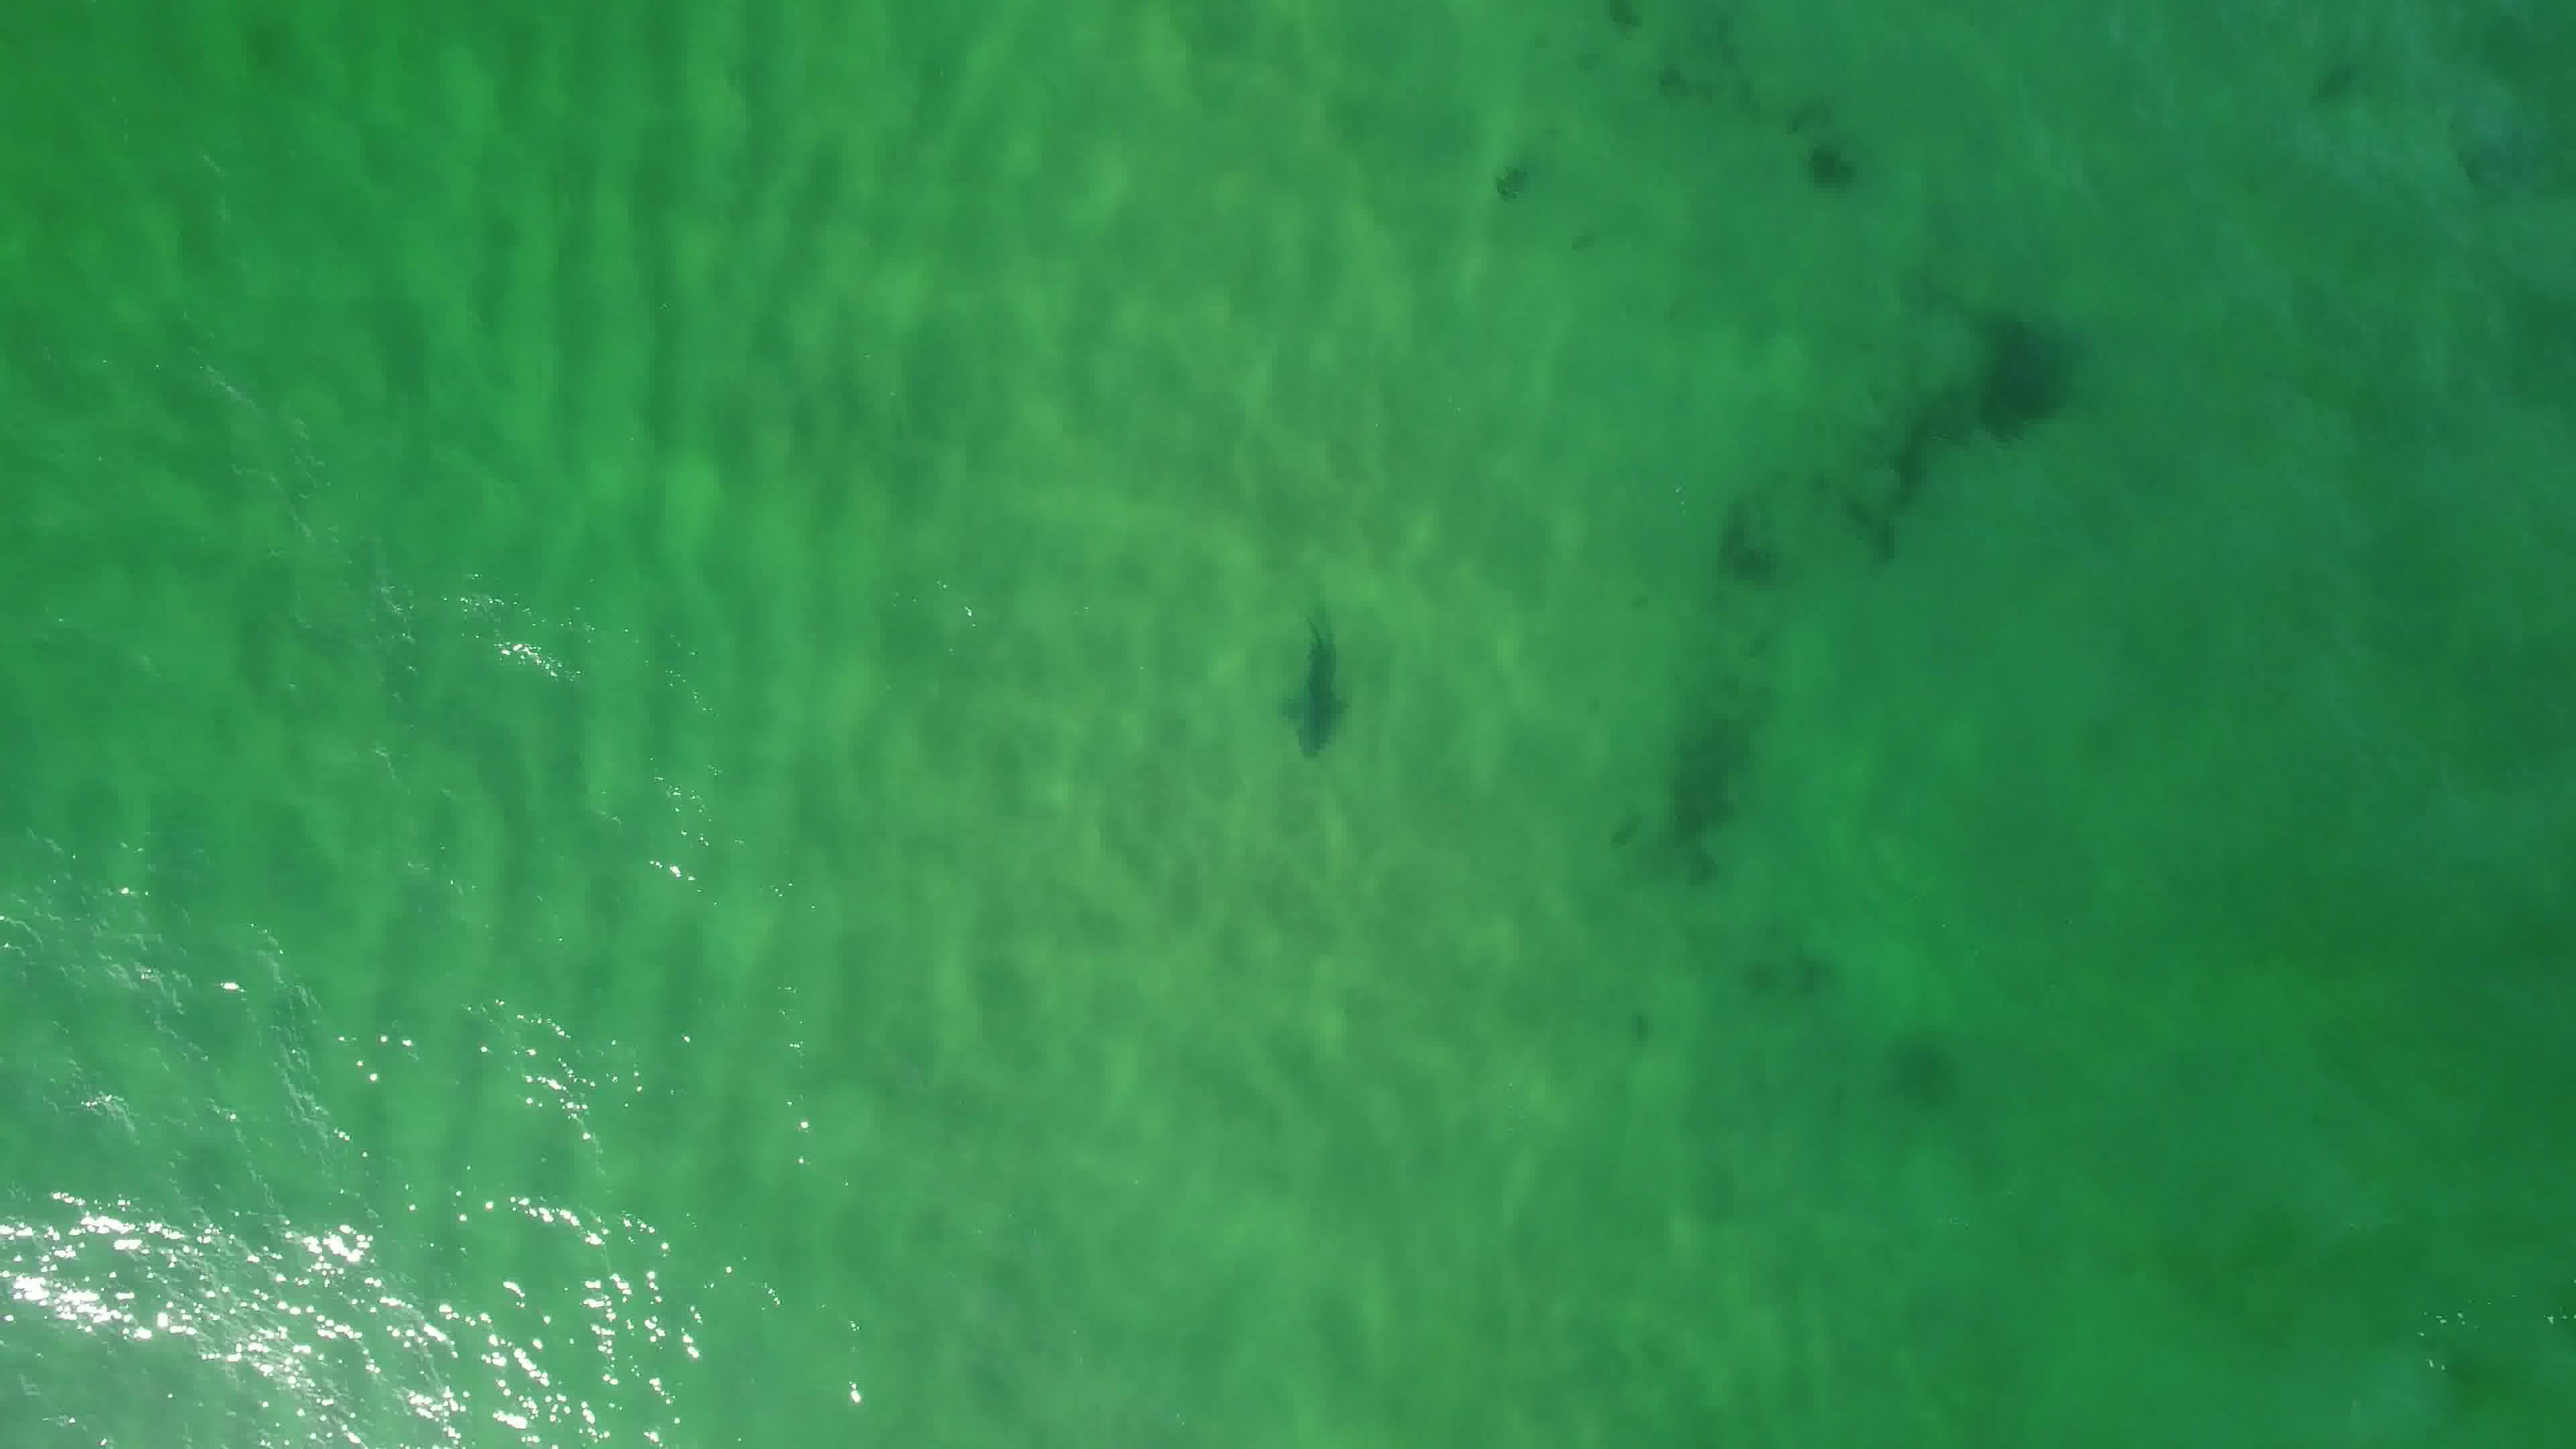shark: (1279, 603, 1355, 763)
